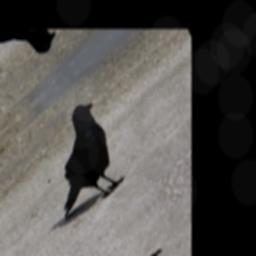Crow: (27, 93, 132, 231)
